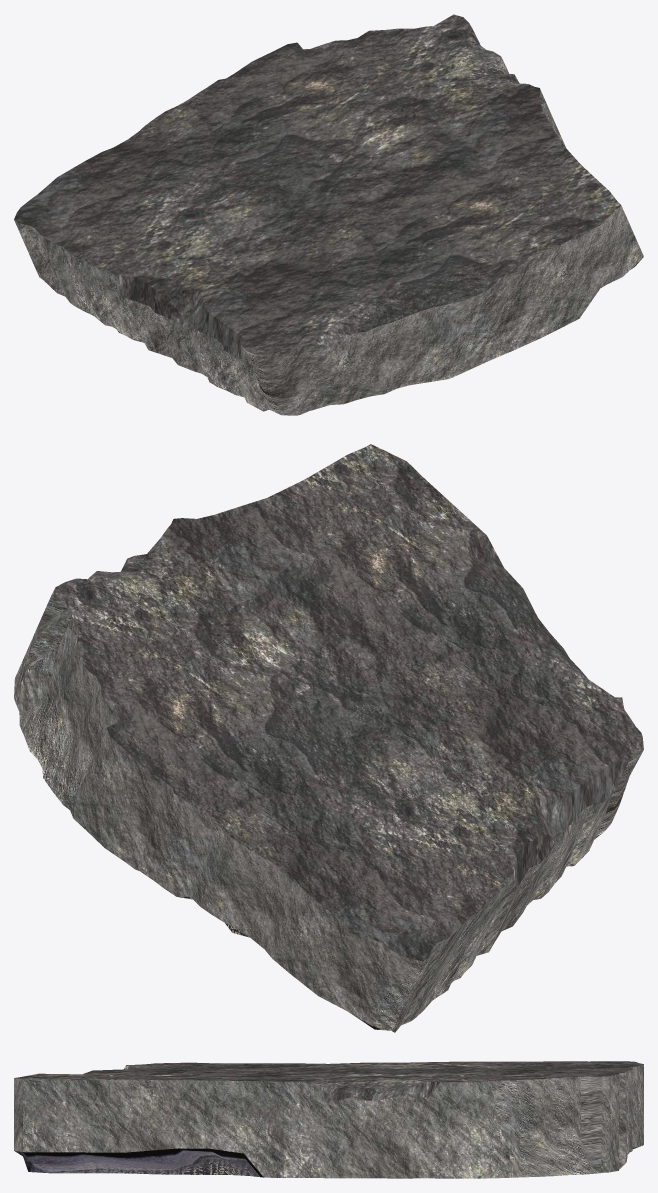
File: rosetta_stone.glb
3 views of the same model, one above another, from view 1: azimuth 30°, elevation 25°; view 2: azimuth 150°, elevation 25°; view 3: azimuth 270°, elevation 25° (orthographic). The views are drawn at different scales.
Parts seen in each view (by area): view 1: Object_5, Object_4, Object_3; view 2: Object_5, Object_4, Object_3; view 3: Object_3, Object_4, Object_5, Object_2.
Boxes of the visible parts, x1=… form: Object_5: x1=14, y1=14, x2=620, y2=359; Object_4: x1=241, y1=205, x2=643, y2=415; Object_3: x1=14, y1=57, x2=565, y2=411; Object_5: x1=51, y1=444, x2=643, y2=961; Object_4: x1=14, y1=616, x2=643, y2=1030; Object_3: x1=14, y1=521, x2=615, y2=1031; Object_3: x1=23, y1=1079, x2=509, y2=1178; Object_4: x1=14, y1=1064, x2=643, y2=1177; Object_5: x1=14, y1=1061, x2=643, y2=1100; Object_2: x1=14, y1=1146, x2=639, y2=1177.
Bounding box in the file's own units: 0.1284 × 0.0719 × 0.1616.
Materials: 4 (4 with a texture image).
